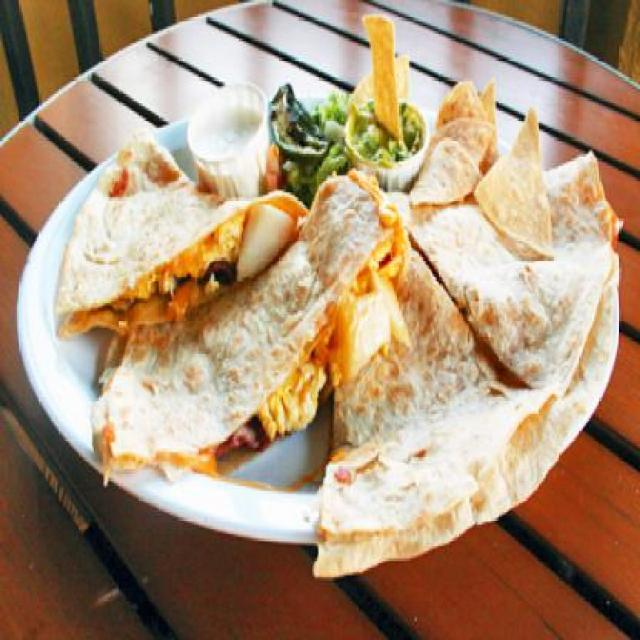chicken quesadilla: (50, 182, 608, 582)
guacamole: (288, 94, 423, 188)
nachos: (411, 72, 557, 240), (360, 7, 422, 130)
